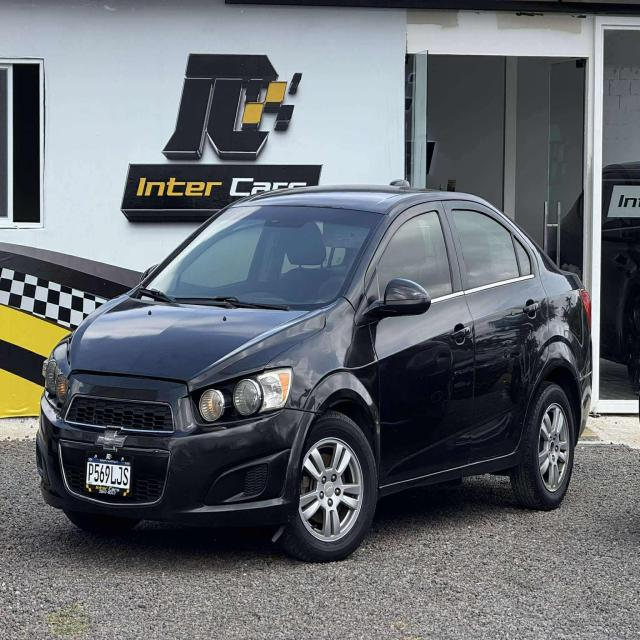Placas: (86, 457, 137, 499)
